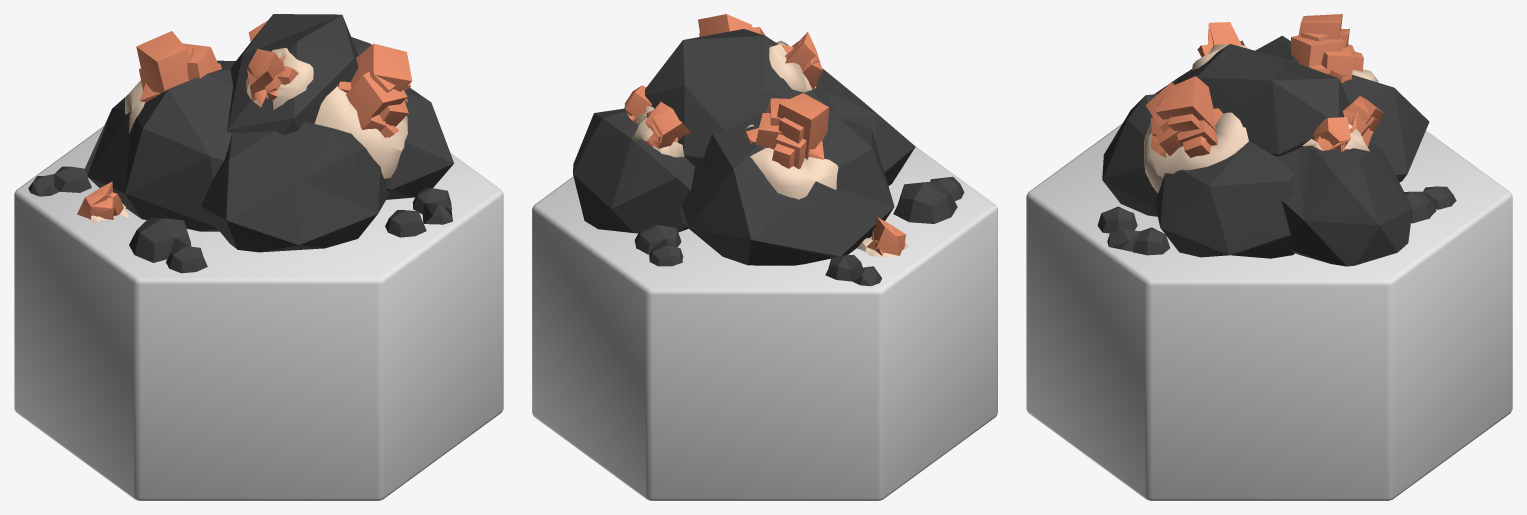
The model's file is cyl30.fbx.
3 renders of one model, left to right at view 1: azimuth 30°, elevation 25°; view 2: azimuth 150°, elevation 25°; view 3: azimuth 270°, elevation 25°, orthographic. The views are drawn at different scales.
Parts seen in each view (by area): view 1: Cylinder030.001; view 2: Cylinder030.001; view 3: Cylinder030.001.
Part boxes in pixels (x1,y1,x2,y2): Cylinder030.001: (14, 14, 503, 500); Cylinder030.001: (532, 14, 997, 500); Cylinder030.001: (1026, 14, 1512, 500).
Bounding box in the file's own units: 173 × 173 × 199.
